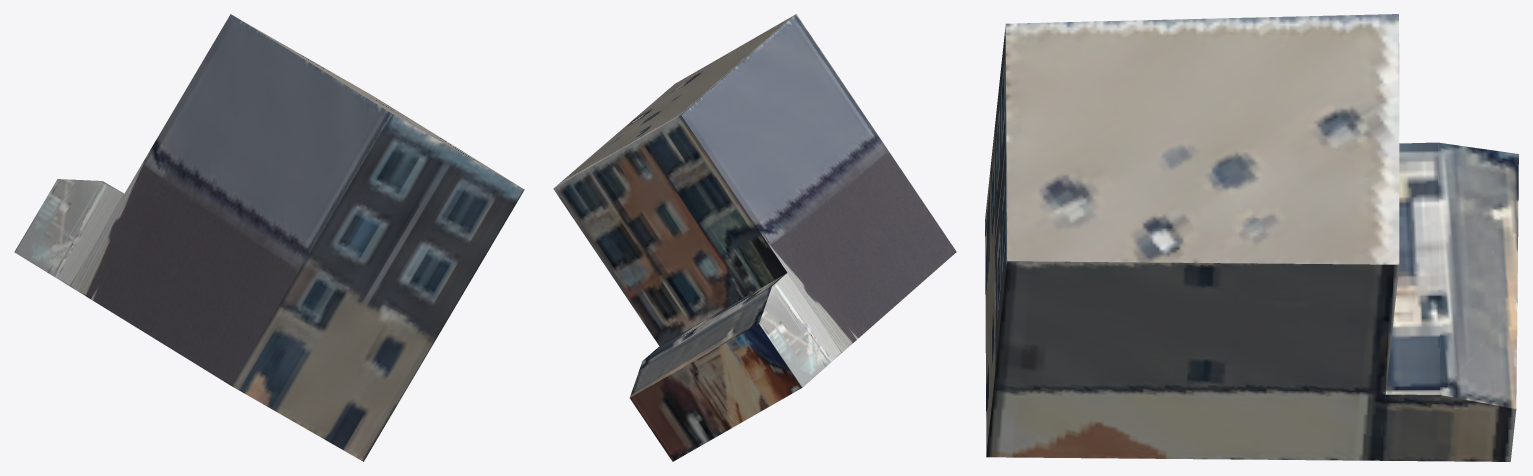
3 views of the same model, side by side, from view 1: azimuth 30°, elevation 25°; view 2: azimuth 150°, elevation 25°; view 3: azimuth 270°, elevation 25° (orthographic). The views are drawn at different scales.
Parts seen in each view (by area): view 1: BAG_0599100000767287 (×4); view 2: BAG_0599100000767287 (×4); view 3: BAG_0599100000767287 (×4).
Part boxes in pixels (left/top/right/bottom): BAG_0599100000767287 (×4): left=14, top=14, right=524, bottom=461; BAG_0599100000767287 (×4): left=553, top=14, right=956, bottom=461; BAG_0599100000767287 (×4): left=985, top=14, right=1518, bottom=461.
Size of the model in its own units: 17.04 by 17.26 by 17.73.
1 material, 1 textured.
